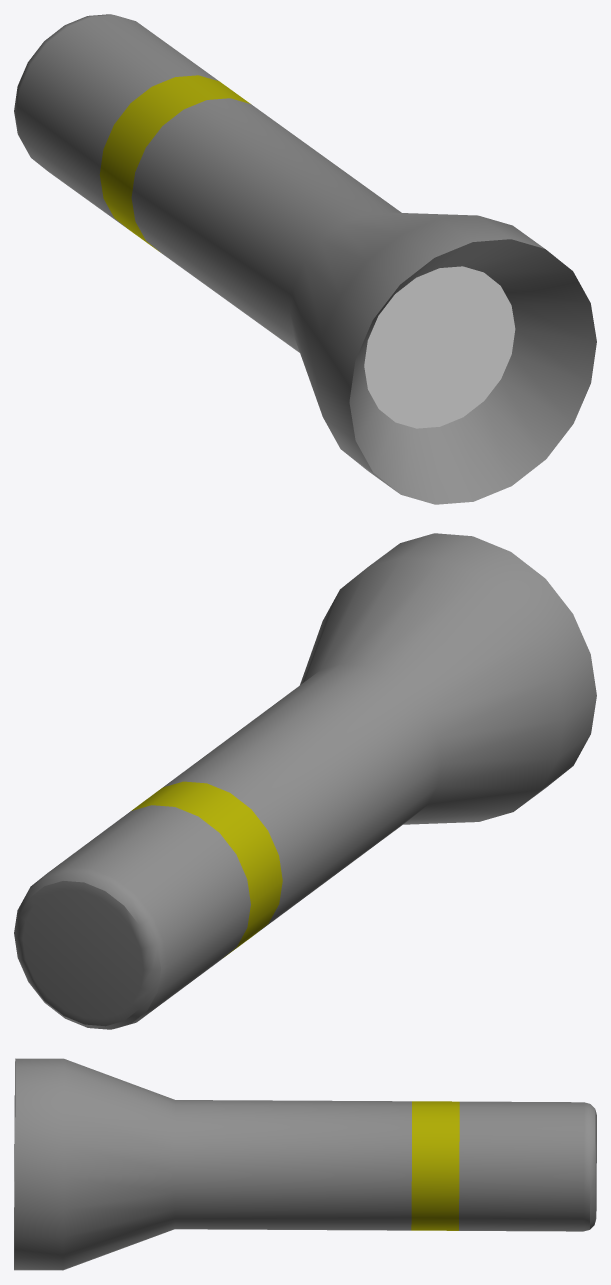
The model's file is Flashlight.fbx.
3 views of the same model, one above another, from view 1: azimuth 30°, elevation 25°; view 2: azimuth 150°, elevation 25°; view 3: azimuth 270°, elevation 25° (orthographic). The views are drawn at different scales.
Parts seen in each view (by area): view 1: pCylinder1; view 2: pCylinder1; view 3: pCylinder1.
Boxes of the visible parts, <box> form: pCylinder1: <box>14,14,596,504</box>; pCylinder1: <box>14,533,596,1029</box>; pCylinder1: <box>14,1058,596,1270</box>.
Size of the model in its own units: 3.27 by 3.28 by 8.95.
